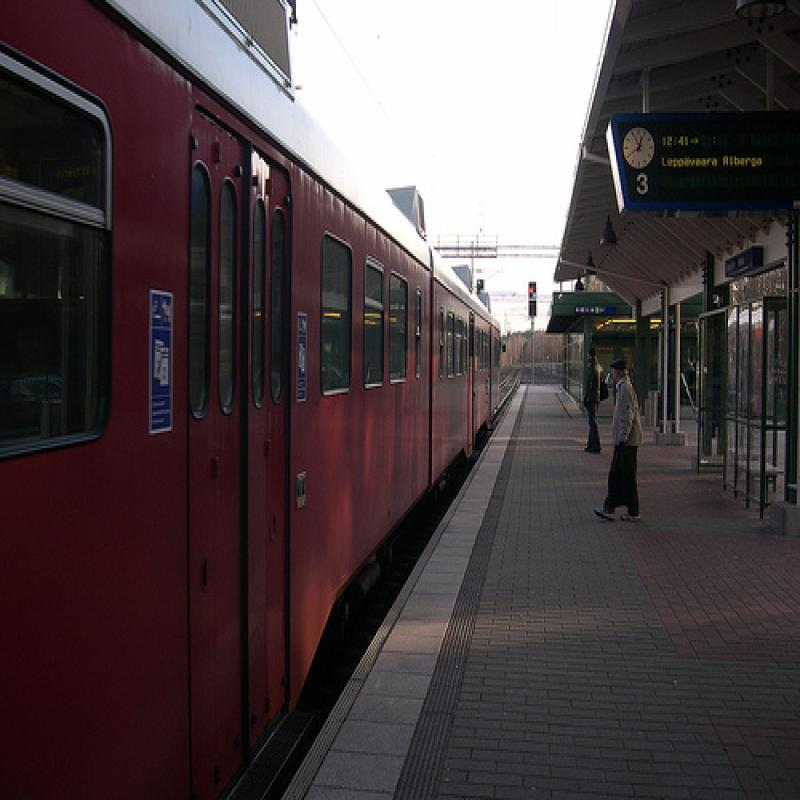train: (1, 1, 503, 799)
